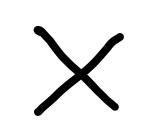mult: (34, 26, 125, 116)
